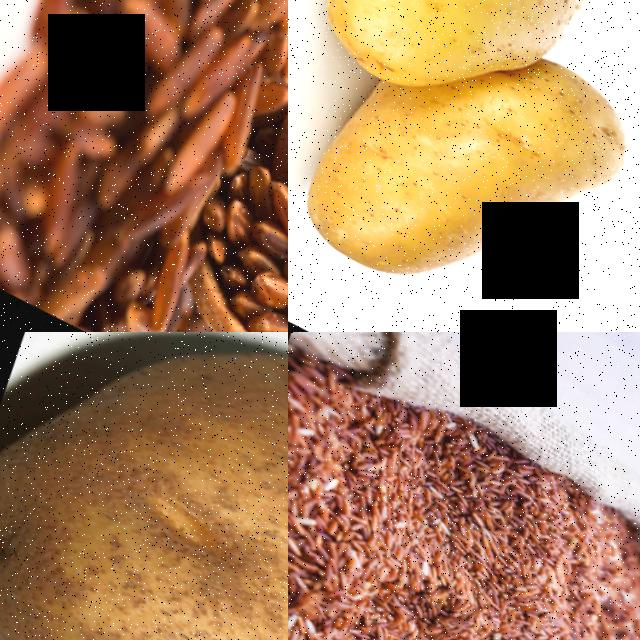potato: (0, 332, 288, 640), (288, 43, 587, 332), (288, 0, 633, 160)
red rice: (288, 339, 640, 640), (0, 0, 288, 332), (154, 0, 288, 332)
